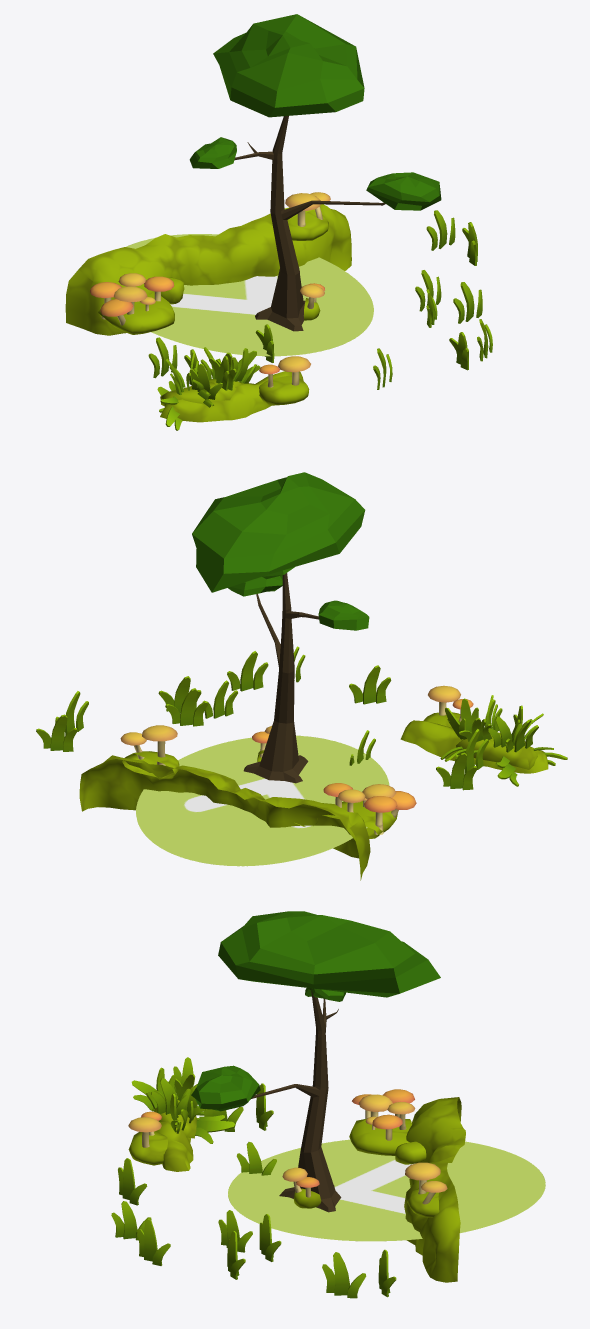
File: tree.fbx
The picture shows the model from 3 angles, top to bottom: view 1: azimuth 30°, elevation 25°; view 2: azimuth 150°, elevation 25°; view 3: azimuth 270°, elevation 25°; orthographic projection.
Parts seen in each view (by area): view 1: Object_2, moss, floor, Object_3, moss.002, moss.006, moss.005, moss.001, moss_with grass, grass4, grass6.001, grass6; view 2: floor, Object_2, moss, Object_3, moss.002, moss_with grass, grass2, grass2.001, grass4.001, grass6.001, grass6, moss.006 (+5 smaller); view 3: floor, Object_2, moss, Object_3, moss.006, moss.002, grass5.001, moss.005, grass4.001, grass2.001, grass1.001, grass3 (+8 smaller).
Part boxes in pixels (bbox=[...]): Object_2: bbox=[189, 14, 441, 210]; moss: bbox=[65, 204, 351, 335]; floor: bbox=[126, 234, 373, 356]; Object_3: bbox=[234, 116, 385, 331]; moss.002: bbox=[160, 371, 303, 422]; moss.006: bbox=[98, 292, 174, 334]; moss.005: bbox=[259, 376, 309, 405]; moss.001: bbox=[287, 210, 328, 240]; moss_with grass: bbox=[160, 379, 242, 406]; grass4: bbox=[453, 282, 482, 323]; grass6.001: bbox=[426, 210, 455, 250]; grass6: bbox=[148, 337, 177, 378]; floor: bbox=[136, 735, 389, 866]; Object_2: bbox=[192, 472, 369, 630]; moss: bbox=[79, 755, 370, 880]; Object_3: bbox=[243, 573, 318, 783]; moss.002: bbox=[400, 720, 548, 773]; moss_with grass: bbox=[456, 732, 537, 769]; grass2: bbox=[165, 688, 207, 726]; grass2.001: bbox=[349, 665, 391, 704]; grass4.001: bbox=[227, 651, 268, 691]; grass6.001: bbox=[36, 714, 77, 751]; grass6: bbox=[436, 752, 477, 790]; moss.006: bbox=[322, 801, 397, 838]; floor: bbox=[228, 1139, 545, 1241]; Object_2: bbox=[191, 911, 440, 1111]; moss: bbox=[404, 1097, 465, 1282]; Object_3: bbox=[251, 989, 341, 1212]; moss.006: bbox=[349, 1119, 411, 1155]; moss.002: bbox=[154, 1107, 193, 1171]; grass5.001: bbox=[322, 1252, 366, 1298]; moss.005: bbox=[128, 1131, 167, 1165]; grass4.001: bbox=[137, 1219, 170, 1265]; grass2.001: bbox=[118, 1158, 147, 1205]; grass1.001: bbox=[111, 1201, 151, 1240]; grass3: bbox=[236, 1142, 276, 1175].
Bounding box in the file's own units: 36503 × 22037 × 36503.
